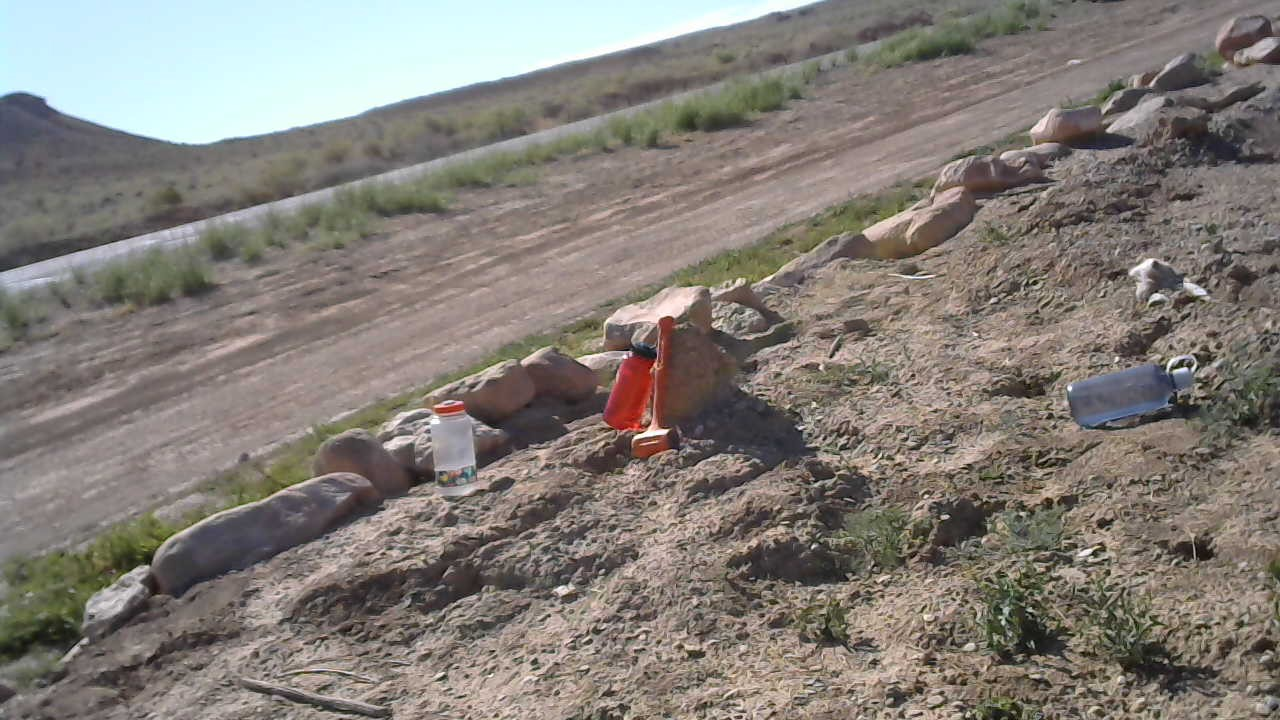bottle: (1061, 354, 1203, 427), (425, 397, 479, 499), (602, 341, 655, 431)
hammer: (627, 316, 680, 454)
